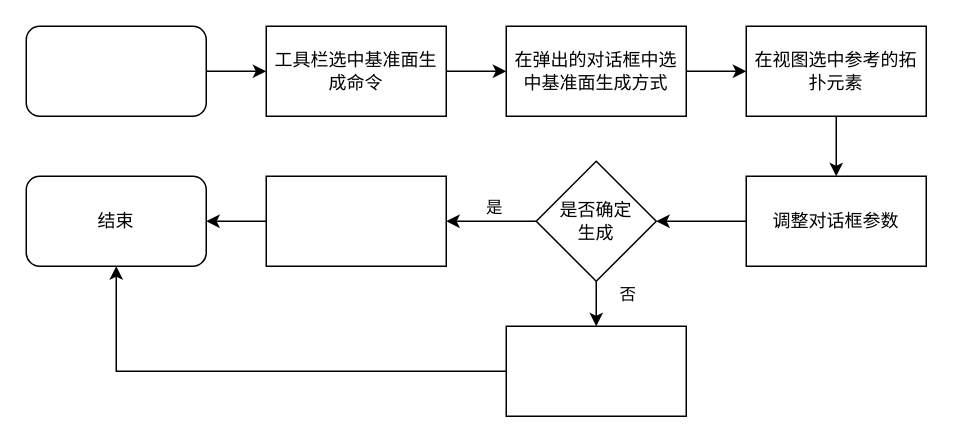
Image size: 953x443. Some labels were removed from this diagram. The shapes that lost their labels are listed below. From the top down, each one's centre as x and y in pixels, then its label:
At (x=115, y=70): "开始".
At (x=355, y=220): "擦除临时显示并触发建模历史添加功能".
At (x=595, y=370): "擦除临时显示并恢复原显示".
